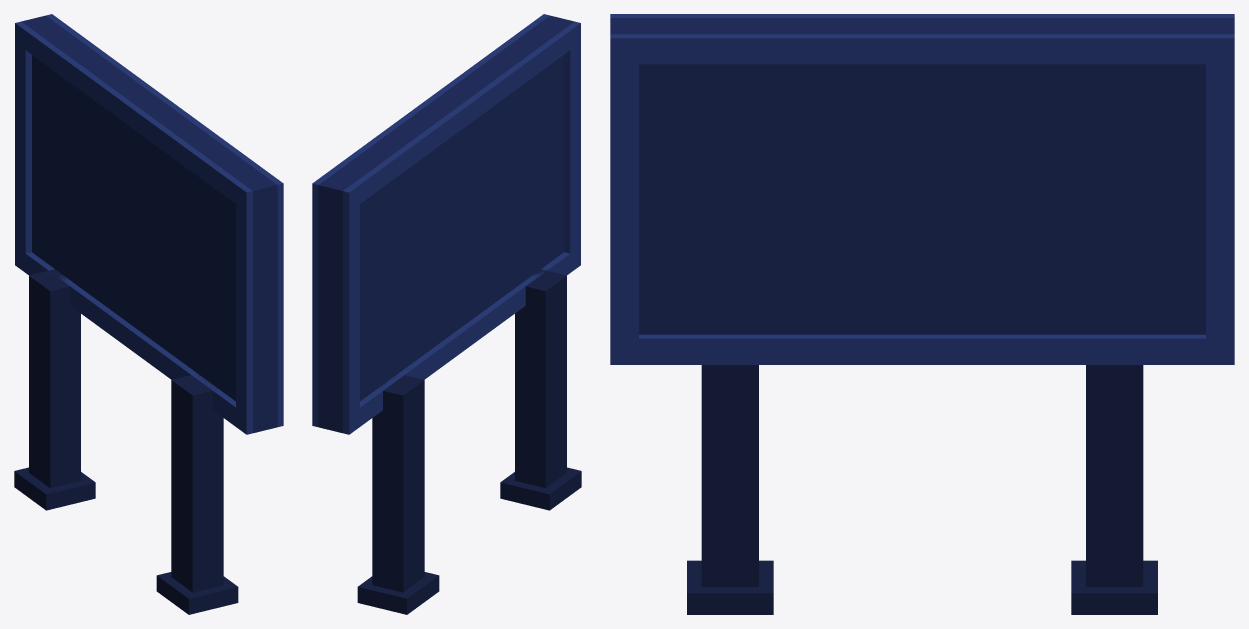
File: sign_board.glb
3 views of the same model, side by side, from view 1: azimuth 30°, elevation 25°; view 2: azimuth 150°, elevation 25°; view 3: azimuth 270°, elevation 25° (orthographic). The views are drawn at different scales.
Visible parts, largest first — view 1: sign_board; view 2: sign_board; view 3: sign_board.
Part boxes in pixels (<box>): sign_board: <box>14,14,283,614</box>; sign_board: <box>312,14,581,614</box>; sign_board: <box>610,14,1234,614</box>.
Size of the model in its own units: 0.43 by 2.7 by 2.6.
